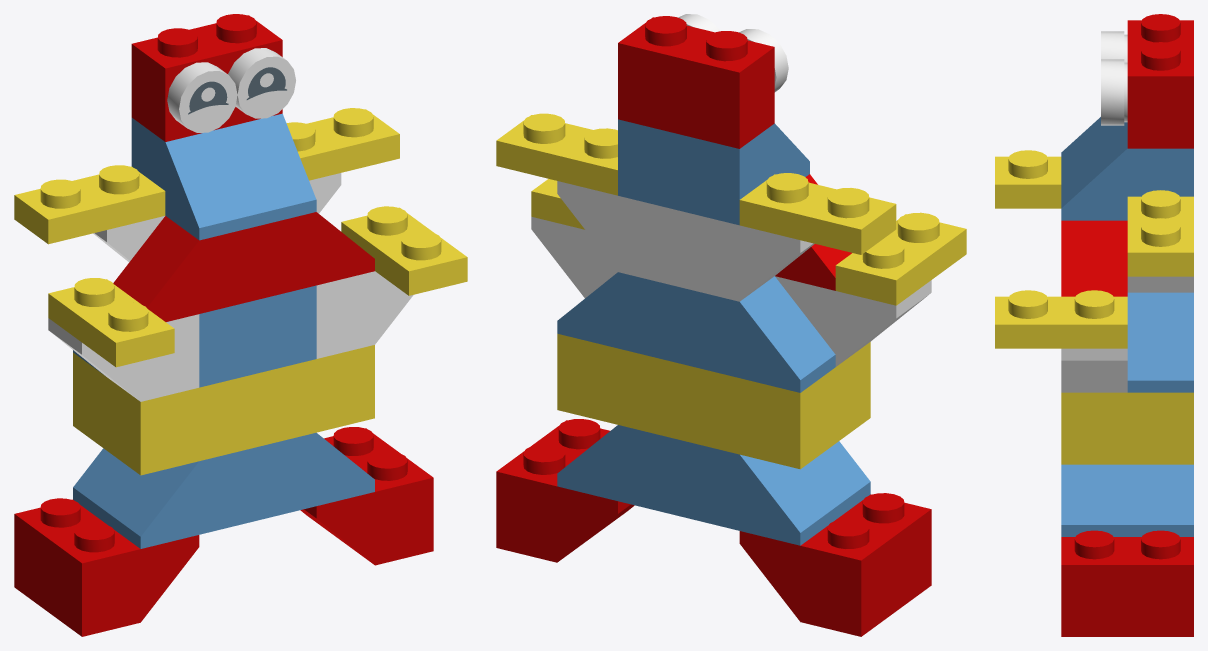
File: Character3_Final.fbx
3 renders of one model, left to right at view 1: azimuth 30°, elevation 25°; view 2: azimuth 150°, elevation 25°; view 3: azimuth 270°, elevation 25°, orthographic. The views are drawn at different scales.
Parts seen in each view (by area): view 1: Character3; view 2: Character3; view 3: Character3.
Boxes of the visible parts, x1,y1,x2,y2 form: Character3: [14, 14, 467, 636]; Character3: [496, 14, 966, 636]; Character3: [995, 14, 1193, 636].
Bounding box in the file's own units: 1200 × 1720 × 600.
